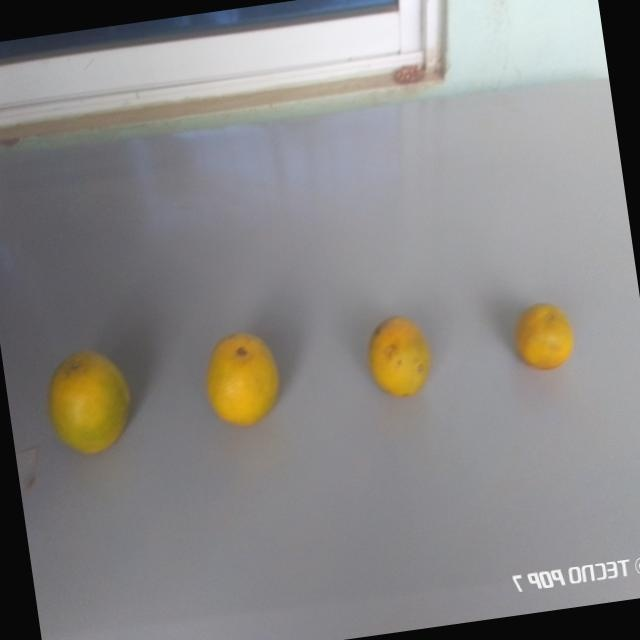agrume: (37, 332, 147, 464), (188, 320, 289, 435), (353, 305, 444, 419), (502, 290, 589, 382)
